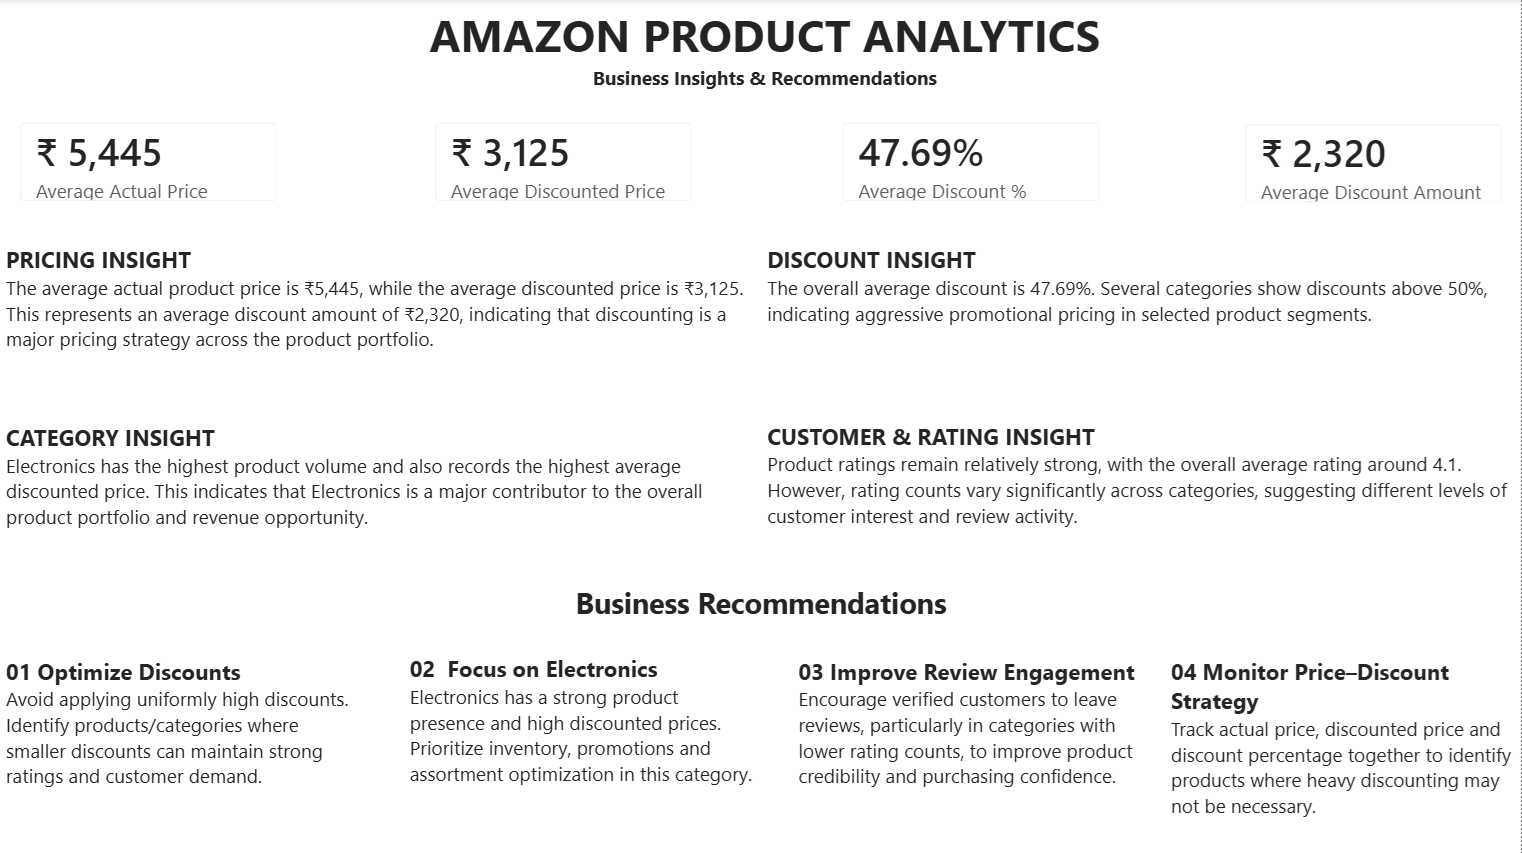

Layout of this report page (visuals, bound fields, positions):
{"tool":"powerbi","page":{"name":"Business Insights & Recommendations","canvas":[1280,720],"ordinal":5},"visuals":[{"type":"textbox","box":[0,202.3,640,110],"z":0,"group":"g2"},{"type":"textbox","box":[640.7,202.3,640,110],"z":1,"group":"g2"},{"type":"textbox","box":[0,351.1,640,110],"z":2,"group":"g2"},{"type":"textbox","box":[640.5,350.9,640,110],"z":3,"group":"g2"},{"type":"cardVisual","fields":{"Data":["AmazonProducts.Average Actual Price"]},"box":[-0.5,88.2,250,100],"z":4,"group":"g3"},{"type":"cardVisual","fields":{"Data":["AmazonProducts.Average Discounted Price"]},"box":[348.3,87.7,250,100],"z":5,"group":"g3"},{"type":"cardVisual","fields":{"Data":["AmazonProducts.Average Discount %"]},"box":[691.4,87.7,250,100],"z":6,"group":"g3"},{"type":"cardVisual","fields":{"Data":["AmazonProducts.Average Discount Amount"]},"box":[1030.2,88.4,250,100],"z":7,"group":"g3"},{"type":"textbox","box":[0,487.2,1280.2,43],"z":8,"group":"g1"},{"type":"textbox","box":[0,547.7,300,160],"z":9,"group":"g1"},{"type":"textbox","box":[339.5,546.5,300,160],"z":10,"group":"g1"},{"type":"textbox","box":[666.3,547.7,300,160],"z":11,"group":"g1"},{"type":"textbox","box":[980.2,547.7,300,160],"z":12,"group":"g1"},{"type":"group","id":"g1","title":"Group 1","box":[0,487.2,1280.2,220.9],"z":13},{"type":"group","id":"g2","title":"Group 2","box":[0,202.3,1280.2,258.1],"z":14},{"type":"group","id":"g3","title":"Group 3","box":[-0.5,87.7,1280.7,100.7],"z":15},{"type":"textbox","box":[320.9,0,645.4,88.4],"z":16}]}

Visuals, with their boxes in screenshot pixels (x1, y1, x2, y2), scaled from the page's 1280x720 canvas onto the 1522x853 screenshot:
textbox: 0, 240, 761, 370
textbox: 762, 240, 1521, 370
textbox: 0, 416, 761, 546
textbox: 762, 416, 1521, 546
cardVisual - AmazonProducts.Average Actual Price: 0, 104, 297, 223
cardVisual - AmazonProducts.Average Discounted Price: 414, 104, 711, 222
cardVisual - AmazonProducts.Average Discount %: 822, 104, 1119, 222
cardVisual - AmazonProducts.Average Discount Amount: 1225, 105, 1521, 223
textbox: 0, 577, 1521, 628
textbox: 0, 649, 357, 838
textbox: 404, 647, 760, 837
textbox: 792, 649, 1149, 838
textbox: 1166, 649, 1521, 838
"Group 1" group: 0, 577, 1521, 839
"Group 2" group: 0, 240, 1521, 545
"Group 3" group: 0, 104, 1521, 223
textbox: 382, 0, 1149, 105
